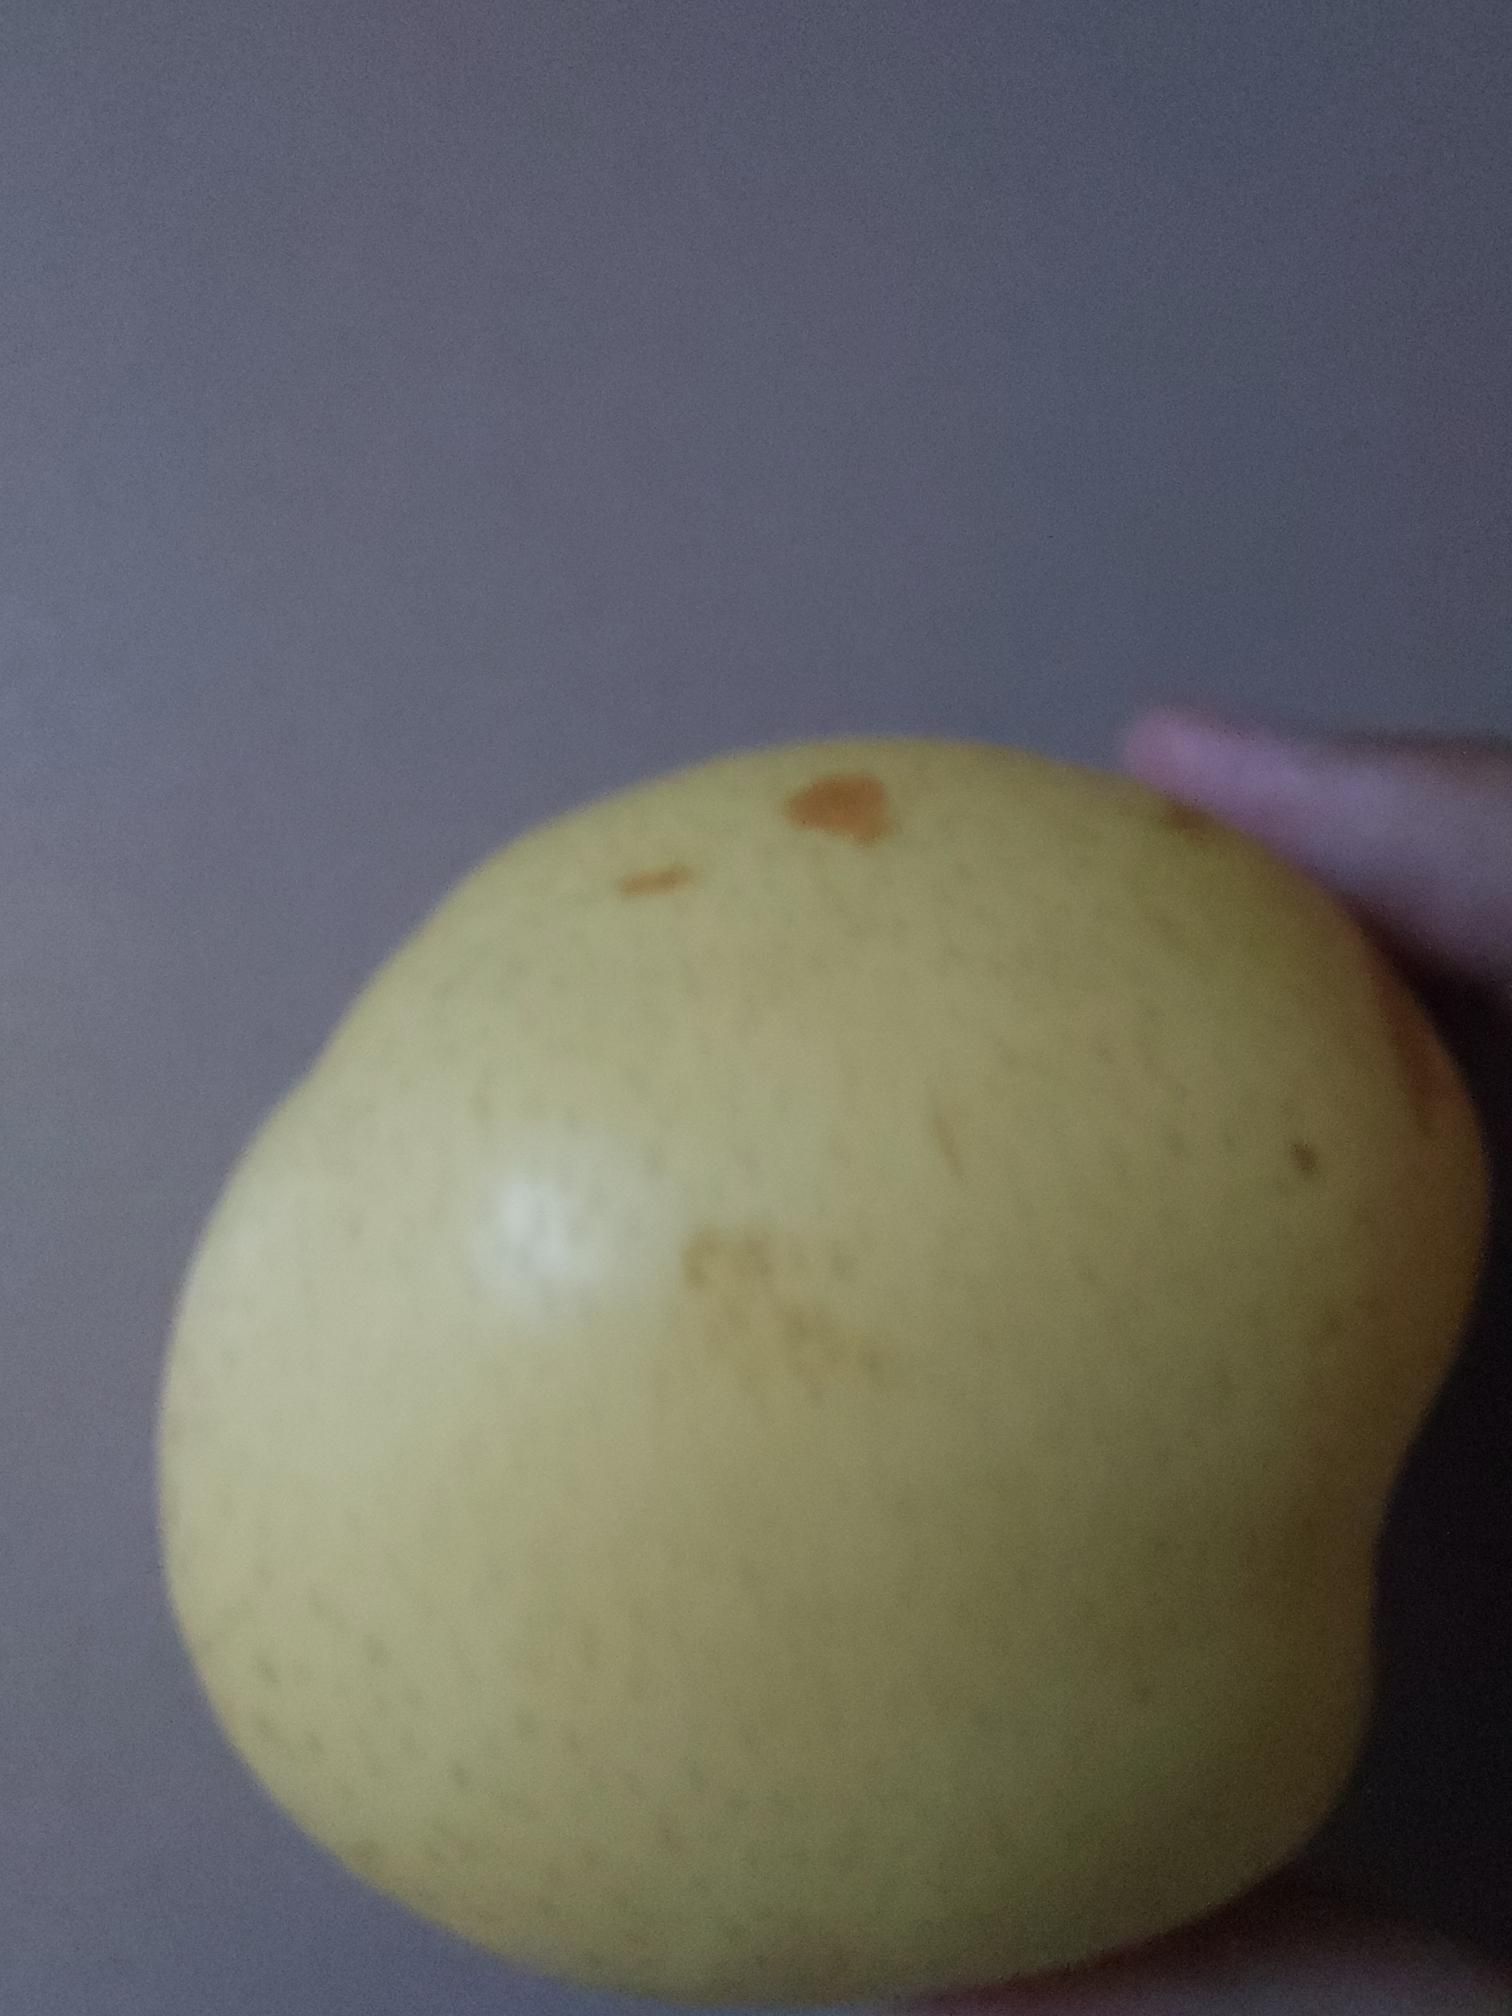Good Pear: (49, 732, 1471, 2016)
